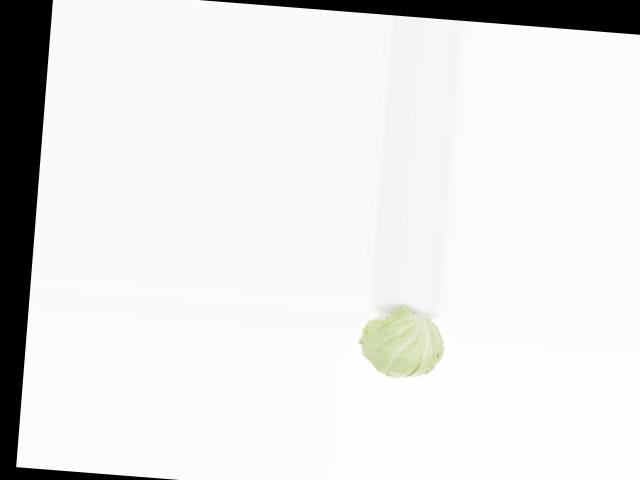lettuce: (354, 311, 451, 382)
